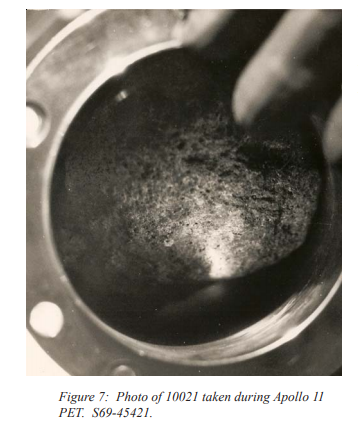Breccia: (75, 112, 291, 328)
